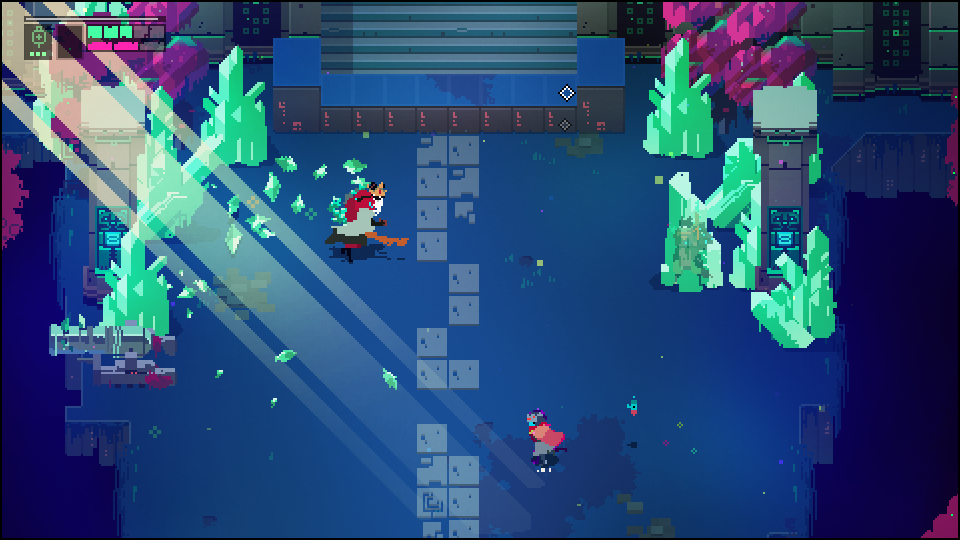hanged_man: (332, 188, 405, 262)
player: (524, 410, 566, 468)
